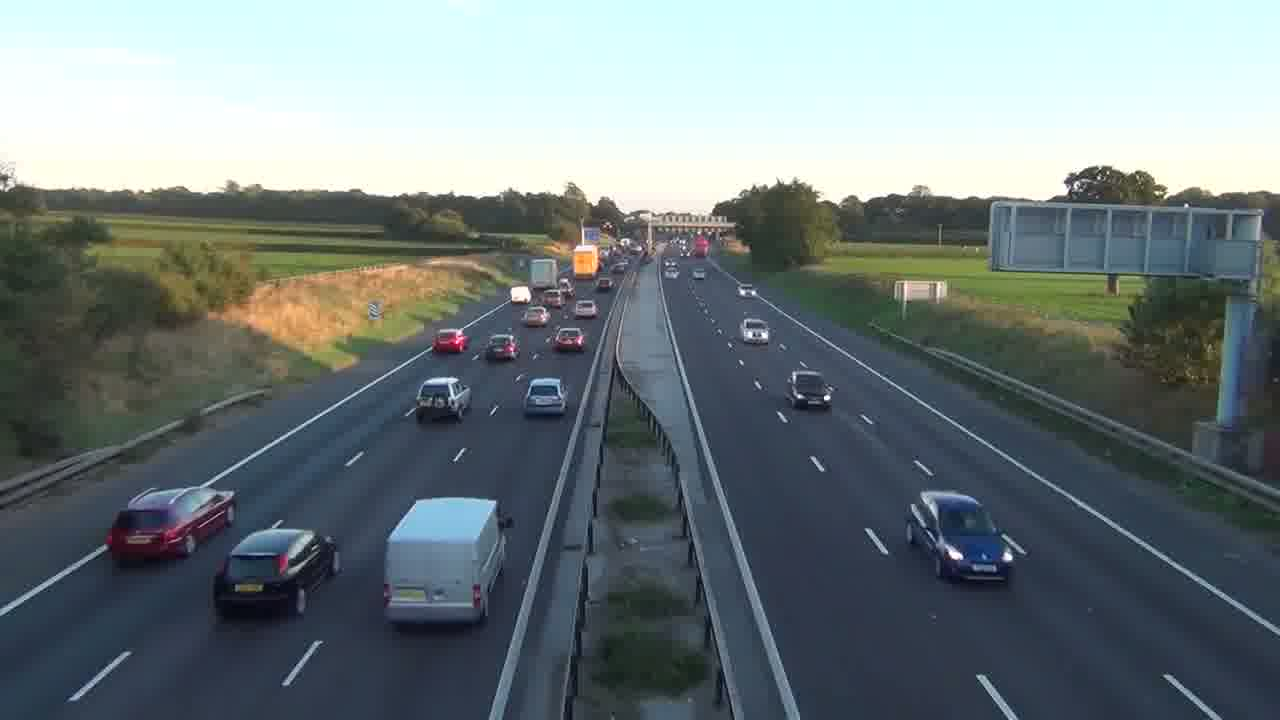car: (212, 521, 341, 618), (905, 488, 1028, 584), (106, 484, 238, 565), (414, 376, 471, 422), (523, 376, 566, 418), (483, 332, 519, 362), (551, 326, 586, 354), (431, 328, 468, 354), (521, 305, 549, 328), (574, 298, 599, 319)
truck: (382, 496, 510, 627)
